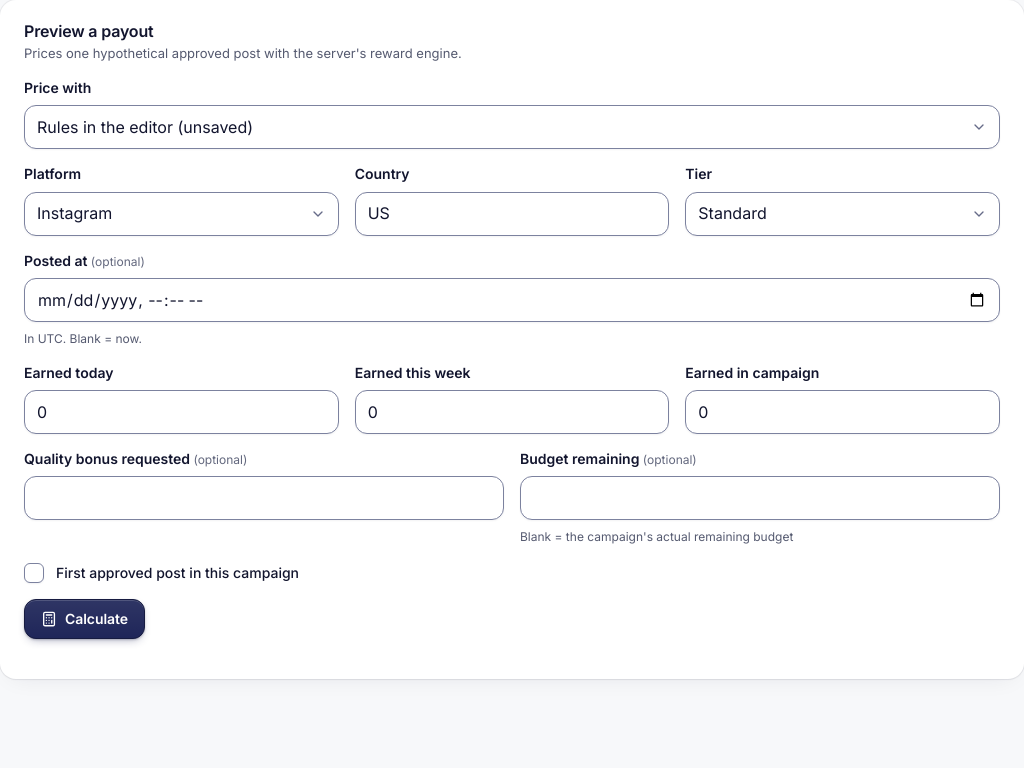
Test: RewardPreview › prices a saved version and surfaces server rule errors
The image size is (1024, 768).
Select "Saved version 1 (current)" in the dropdown labelled "Price with". click: (512, 127)
box: [24,105,1000,149]
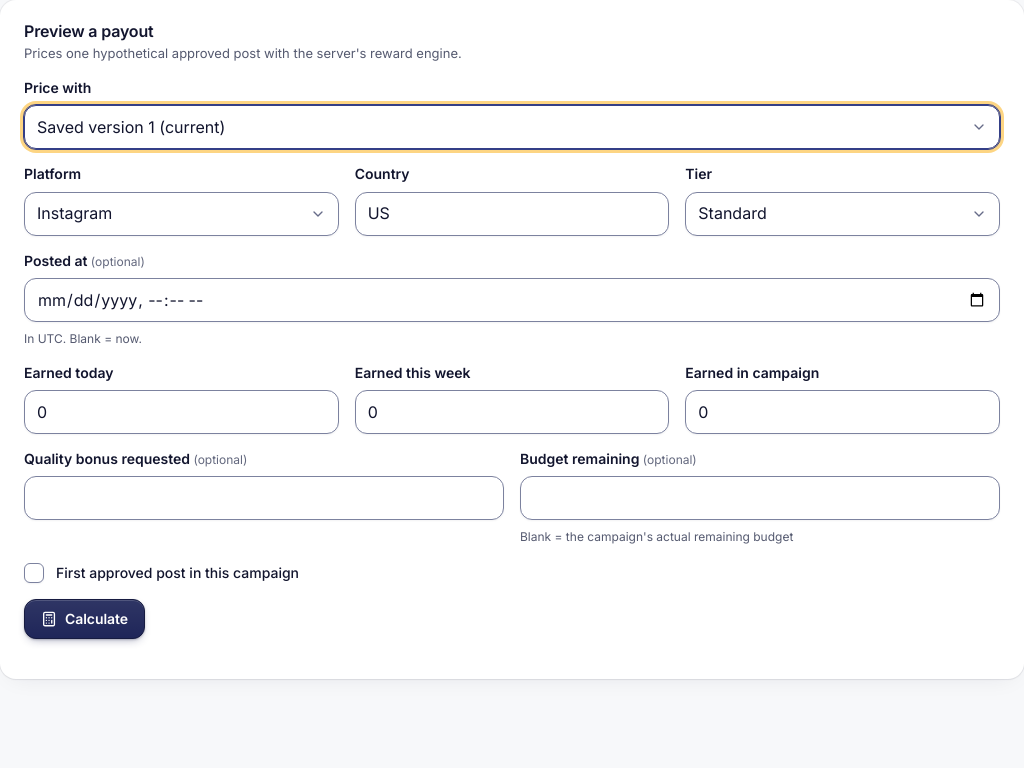
Click the button "Calculate". click: (84, 619)
box: [24,599,145,639]
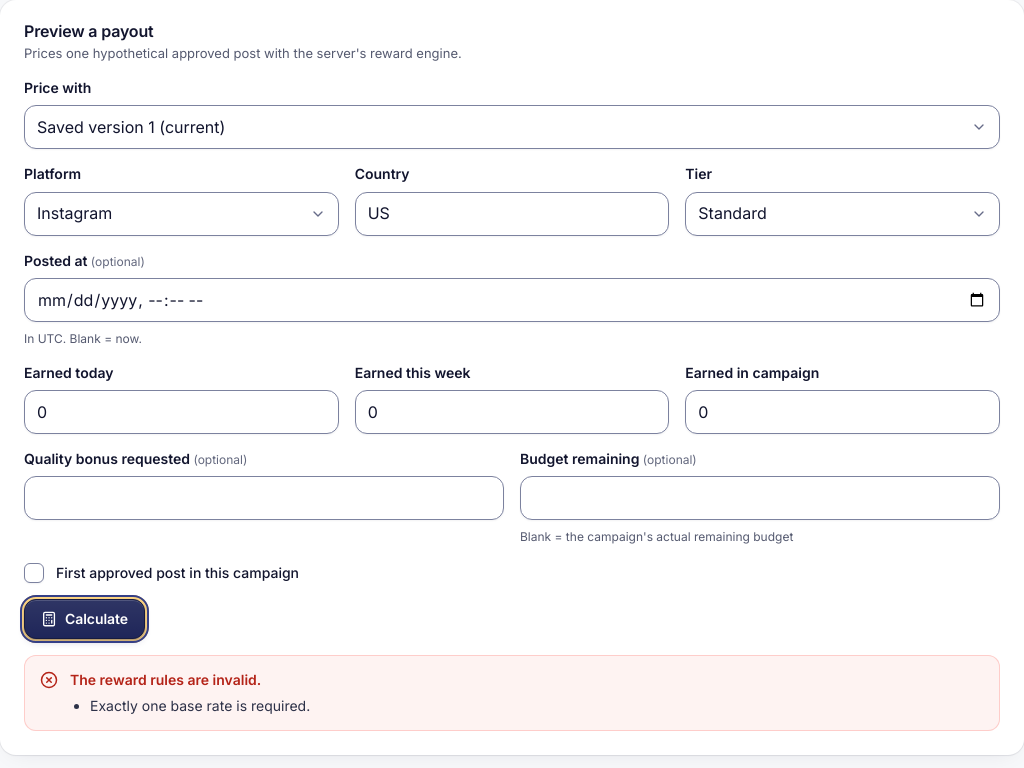
Check: the list item "Exactly one base rate is required." is shown, box [90,697,310,714]
